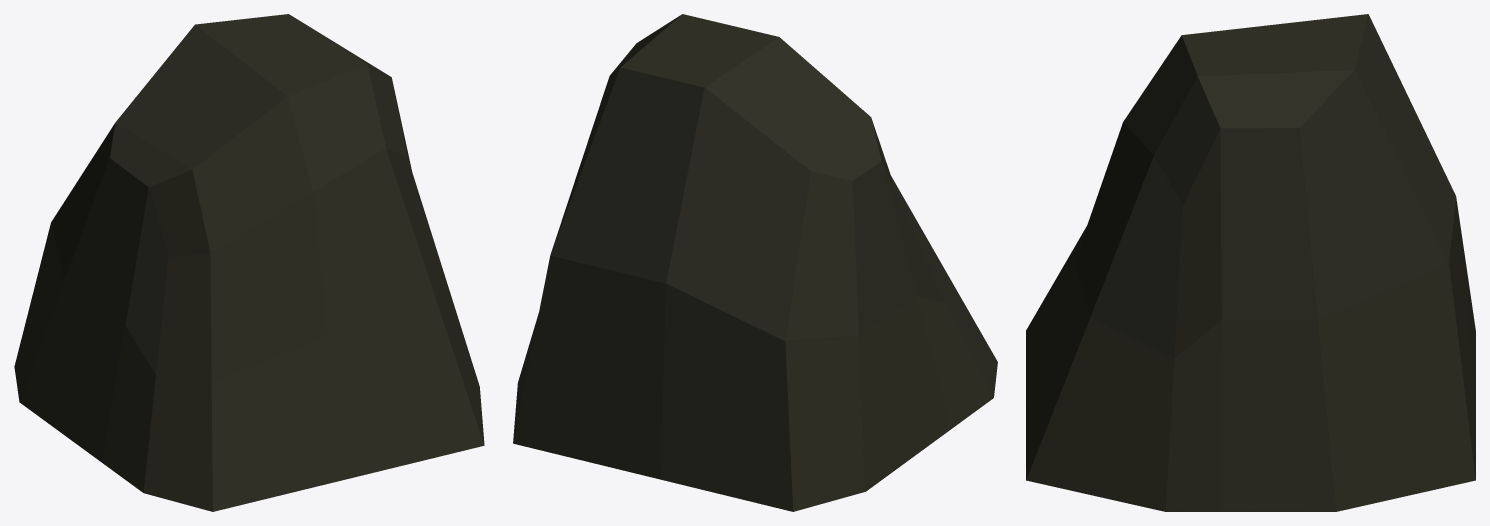
Rendered from Pedra.fbx.
3 renders of one model, left to right at view 1: azimuth 30°, elevation 25°; view 2: azimuth 150°, elevation 25°; view 3: azimuth 270°, elevation 25°, orthographic. The views are drawn at different scales.
Parts seen in each view (by area): view 1: Pedra; view 2: Pedra; view 3: Pedra.
Part boxes in pixels (x1,y1,x2,y2): Pedra: [14, 14, 484, 511]; Pedra: [513, 14, 997, 511]; Pedra: [1026, 14, 1475, 511].
Bounding box in the file's own units: 210 × 191 × 200.
